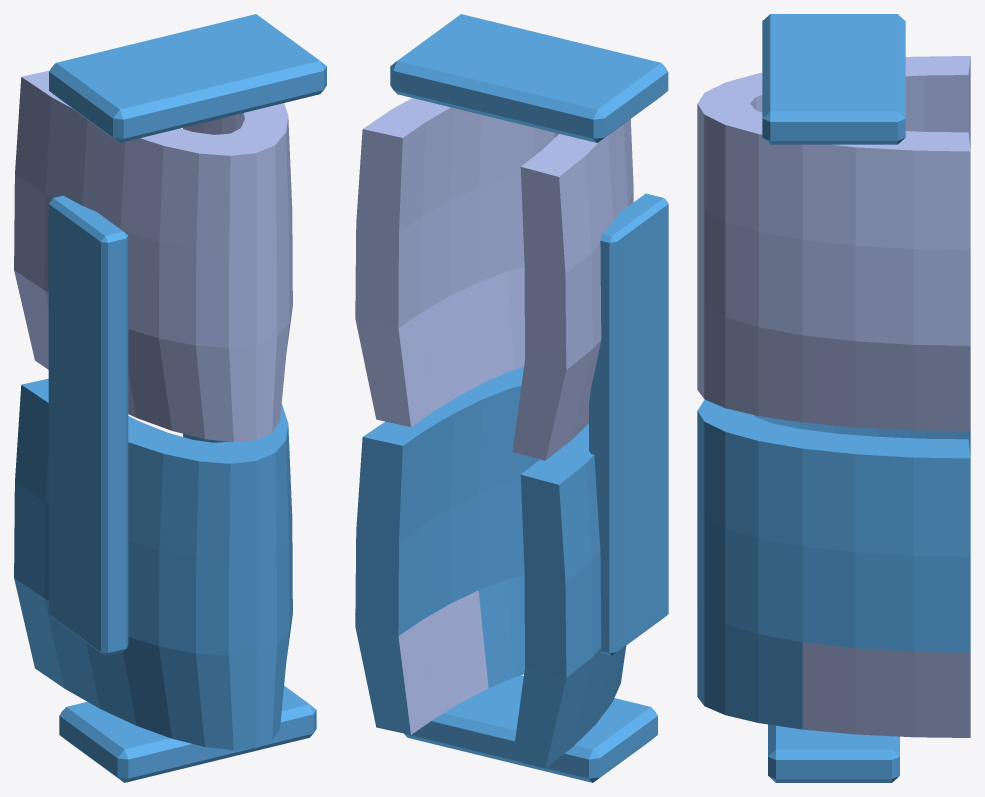
Rendered from right_upperarm.glb.
3 renders of one model, left to right at view 1: azimuth 30°, elevation 25°; view 2: azimuth 150°, elevation 25°; view 3: azimuth 270°, elevation 25°, orthographic.
Visible parts, largest first — view 1: armor_right_upperarm_v001; view 2: armor_right_upperarm_v001; view 3: armor_right_upperarm_v001.
Boxes of the visible parts, x1,y1,x2,y2 form: armor_right_upperarm_v001: (14, 14, 326, 782); armor_right_upperarm_v001: (355, 14, 668, 782); armor_right_upperarm_v001: (697, 14, 970, 782).
Bounding box in the file's own units: 0.0963 × 0.283 × 0.1037.
